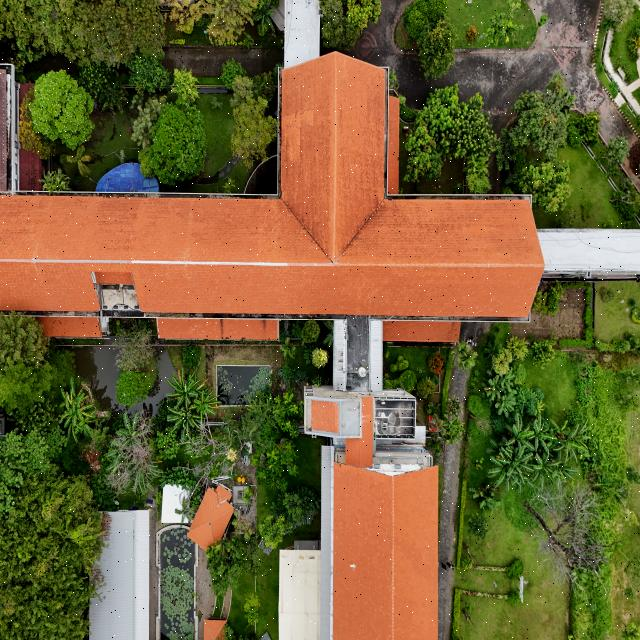Tree: (138, 100, 210, 180), (30, 70, 96, 146), (170, 369, 212, 434), (56, 386, 99, 438), (420, 21, 453, 73), (257, 513, 291, 550), (118, 412, 145, 450), (525, 417, 553, 450), (455, 340, 473, 370), (310, 346, 330, 371)
